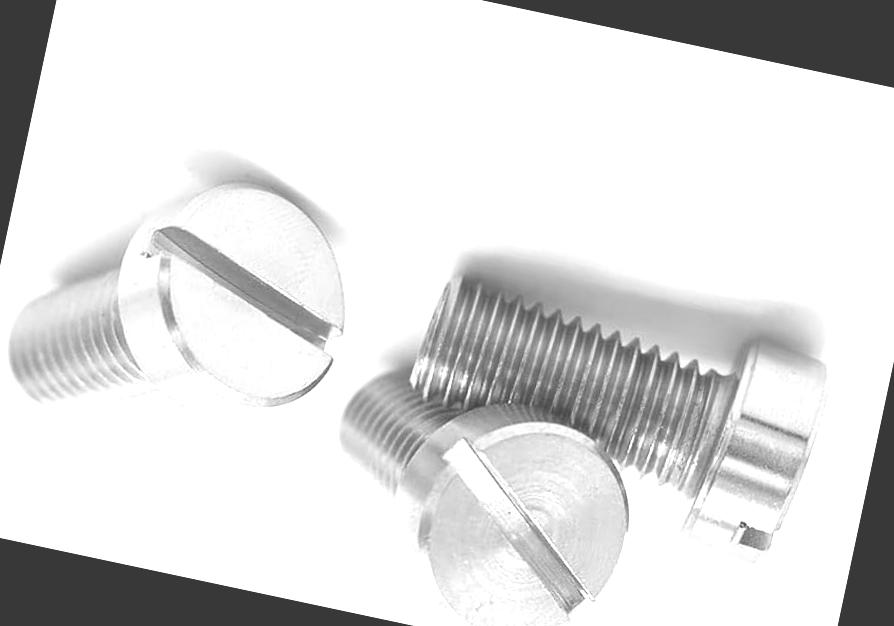slotted: (96, 149, 374, 444), (376, 386, 647, 626)
